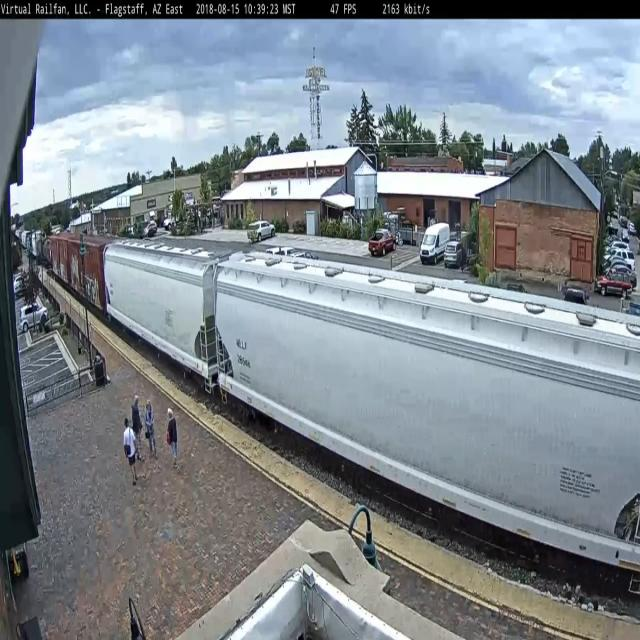hopper: (208, 244, 640, 596), (99, 233, 225, 400)
